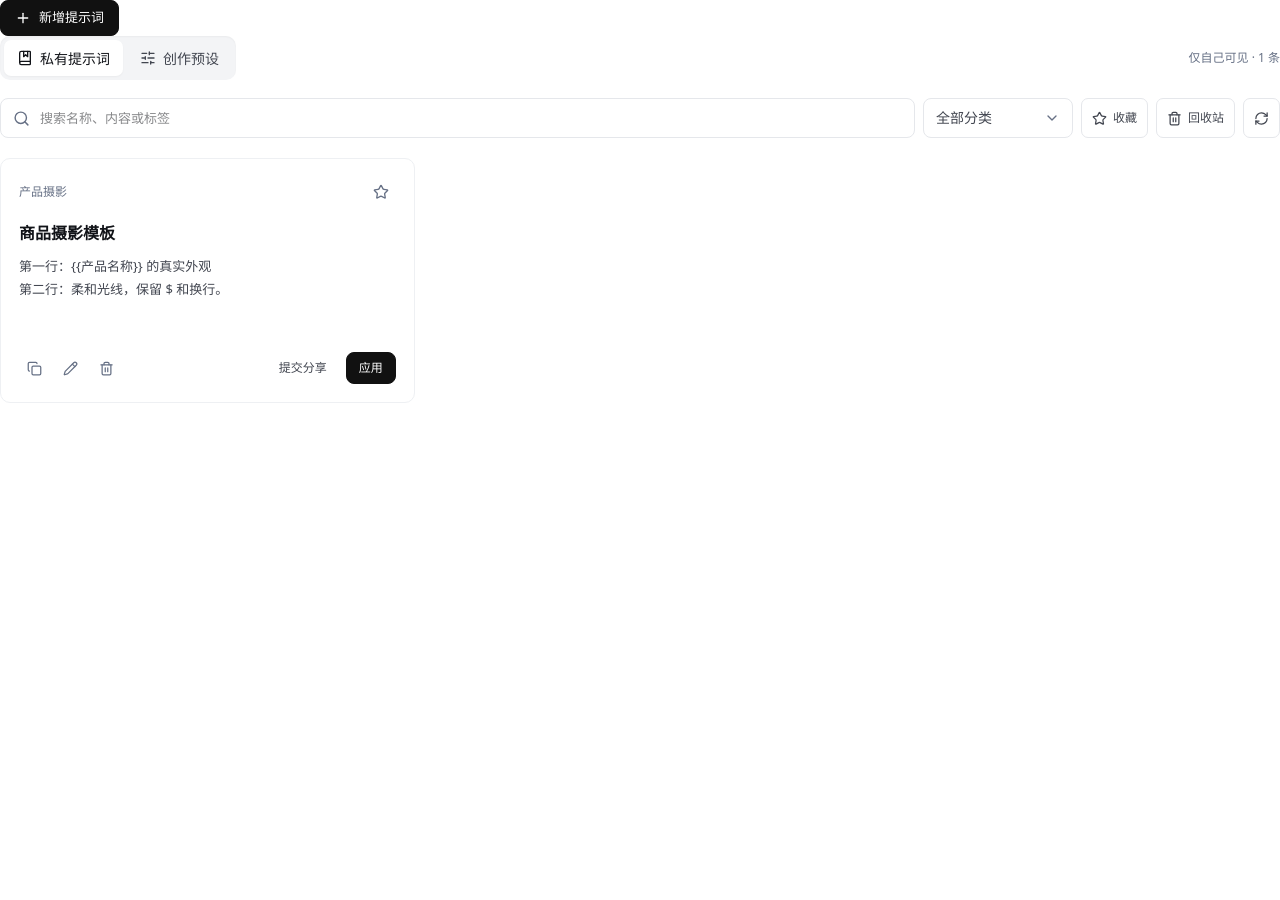
Test: shows the existing pending submission instead of creating a duplicate
Click the button "提交分享" at coordinates (303, 368), box 266,352 -> 340,384
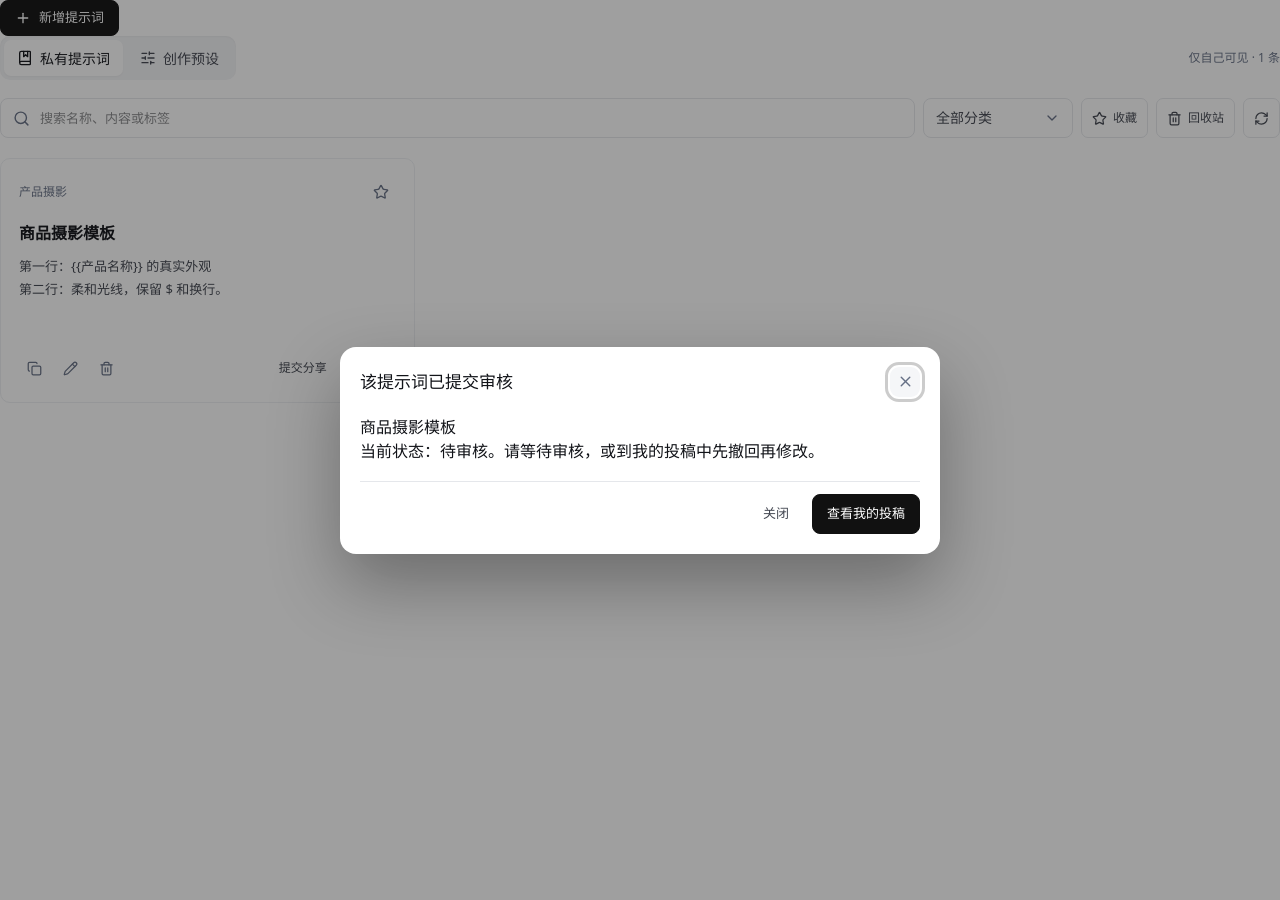
Expected: the text "该提示词已提交审核" is shown, 360,369 -> 513,394
Expected: the link to "/inspire/submissions" is shown, 812,494 -> 920,534
